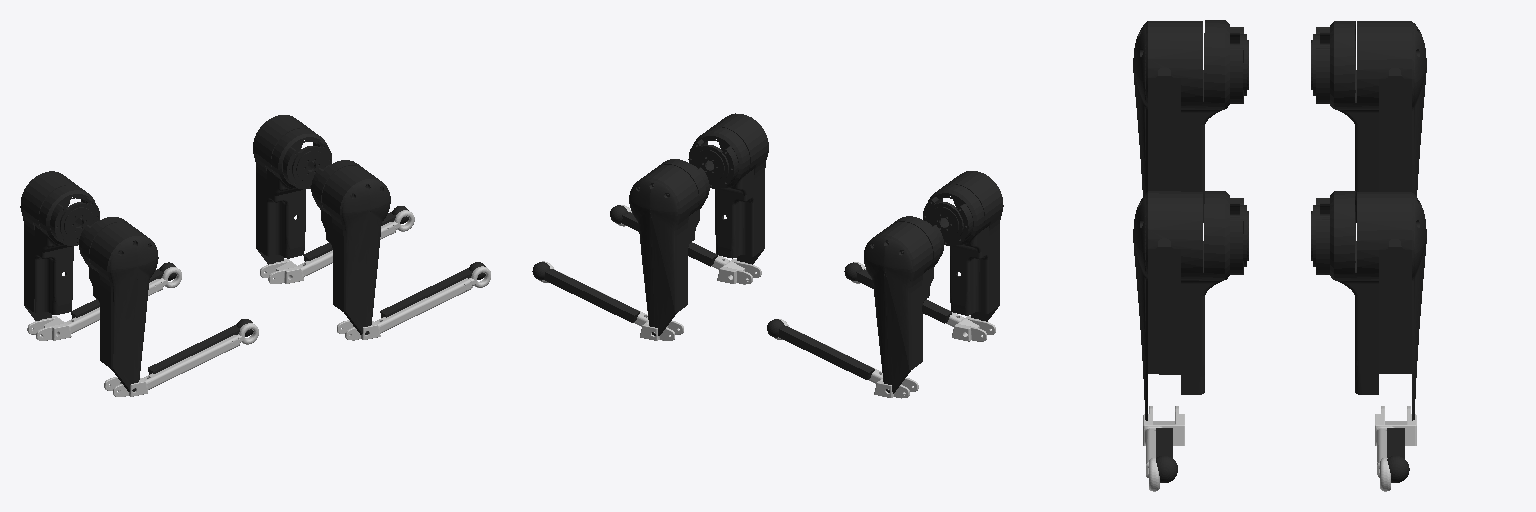
robot.urdf — robot:
<?xml version="1.0" ?>
<robot name="robot">
  <material name="black">
    <color rgba="0.0 0.0 0.0 1.0"/>
  </material>
  <material name="blue">
    <color rgba="0.0 0.0 0.8 1.0"/>
  </material>
  <material name="green">
    <color rgba="0.0 0.8 0.0 1.0"/>
  </material>
  <material name="grey">
    <color rgba="0.2 0.2 0.2 1.0"/>
  </material>
  <material name="silver">
    <color rgba="0.9137254901960784 0.9137254901960784 0.8470588235294118 1.0"/>
  </material>
  <material name="orange">
    <color rgba="1.0 0.4235294117647059 0.0392156862745098 1.0"/>
  </material>
  <material name="brown">
    <color rgba="0.8705882352941177 0.8117647058823529 0.7647058823529411 1.0"/>
  </material>
  <material name="red">
    <color rgba="0.8 0.0 0.0 1.0"/>
  </material>
  <material name="white">
    <color rgba="1.0 1.0 1.0 1.0"/>
  </material>
  <!-- <link name="base">
    <visual>
      <origin rpy="0 0 0" xyz="0 0 0"/>
      <geometry>
        <box size="0.001 0.001 0.001"/>
      </geometry>
    </visual>
  </link>
  <joint name="floating_base" type="fixed">
    <origin rpy="0 0 0" xyz="0 0 0"/>
    <parent link="base"/>
    <child link="trunk"/>
  </joint> -->
  <link name="trunk">
    <visual>
      <origin rpy="0 0 0" xyz="0 0 0"/>
      <geometry>
        <mesh filename="../meshes/trunk.dae" scale="1 1 1"/>
      </geometry>
      <material name="grey"/>
    </visual>
    <collision>
      <origin rpy="0 0 0" xyz="0 0 0"/>
      <geometry>
        <box size="0.647 0.15 0.112"/>
      </geometry>
    </collision>
    <inertial>
      <origin rpy="0 0 0" xyz="0.008465 0.004045 -0.000763"/>
      <mass value="11.041"/>
      <inertia ixx="0.050874" ixy="-0.000451628" ixz="0.000487603" iyy="0.64036" iyz="4.8356e-05" izz="0.65655"/>
    </inertial>
  </link>
  <joint name="FR_hip_joint" type="revolute">
    <origin rpy="0 0 0" xyz="0.2407 -0.051 0"/>
    <parent link="trunk"/>
    <child link="FR_hip"/>
    <axis xyz="1 0 0"/>
    <dynamics damping="0.01" friction="0.2"/>
    <limit effort="35.278" lower="-1.0" upper="1.0" velocity="20"/>
  </joint>
  <link name="FR_hip">
    <visual>
      <origin rpy="3.141592653589793 0 0" xyz="0 0 0"/>
      <geometry>
        <mesh filename="../meshes/hip.dae" scale="1 1 1"/>
      </geometry>
      <material name="grey"/>
    </visual>
    <collision>
      <origin rpy="1.5707963267948966 0 0" xyz="0 0 0"/>
      <geometry>
        <cylinder length="0.0418" radius="0.046"/>
      </geometry>
    </collision>
    <inertial>
      <origin rpy="0 0 0" xyz="-0.022191 -0.015144 -1.5e-05"/>
      <mass value="1.993"/>
      <inertia ixx="0.002903894" ixy="7.185e-05" ixz="-1.262e-06" iyy="0.004907517" iyz="1.75e-06" izz="0.005586944"/>
    </inertial>
  </link>
  <joint name="FR_thigh_joint" type="revolute">
    <origin rpy="0 0 0" xyz="0 -0.0868 0"/>
    <parent link="FR_hip"/>
    <child link="FR_thigh"/>
    <axis xyz="0 1 0"/>
    <dynamics damping="0.01" friction="0.2"/>
    <limit effort="35.278" lower="-0.6" upper="2.9" velocity="20"/>
  </joint>
  <link name="FR_thigh">
    <visual>
      <origin rpy="0 0 0" xyz="0 0 0"/>
      <geometry>
        <mesh filename="../meshes/thigh.dae" scale="1 1 1"/>
      </geometry>
      <material name="grey"/>
    </visual>
    <collision>
      <origin rpy="0 1.6707963267948966 0" xyz="-0.015 0 -0.125"/>
      <geometry>
        <box size="0.25 0.0374 0.043"/>
      </geometry>
    </collision>
    <collision>
      <origin rpy="1.5707963267948966 0 0" xyz="0 -0.0 0"/>
      <geometry>
        <cylinder length="0.03" radius="0.044"/>
      </geometry>
    </collision>
    <inertial>
      <origin rpy="0 0 0" xyz="-0.005607 0.003877 -0.048199"/>
      <mass value="0.639"/>
      <inertia ixx="0.005666803" ixy="-3.597e-06" ixz="0.000491446" iyy="0.005847229" iyz="-1.0086e-05" izz="0.000369811"/>
    </inertial>
  </link>
  <joint name="FR_calf_joint" type="revolute">
    <origin rpy="0 0 0" xyz="0 0 -0.25"/>
    <parent link="FR_thigh"/>
    <child link="FR_calf"/>
    <axis xyz="0 1 0"/>
    <dynamics damping="0.01" friction="0.2"/>
    <limit effort="44.4" lower="-2.8" upper="-0.8" velocity="15.89"/>
  </joint>
  <link name="FR_calf">
    <visual>
      <origin rpy="0 0 0" xyz="0 0 0"/>
      <geometry>
        <mesh filename="../meshes/calf.dae" scale="1 1 1"/>
      </geometry>
    </visual>
    <collision>
      <origin rpy="0 1.5707963267948966 0" xyz="0.008 0 -0.125"/>
      <geometry>
        <box size="0.25 0.04 0.03"/>
      </geometry>
    </collision>
    <collision>
      <origin rpy="0 0 0" xyz="0 0 -0.25"/>
      <geometry>
        <sphere radius="0.02"/>
      </geometry>
    </collision>
    <inertial>
      <origin rpy="0 0 0" xyz="0.002781 6.3e-05 -0.142518"/>
      <mass value="0.207"/>
      <inertia ixx="0.006341369" ixy="-3e-09" ixz="-8.7951e-05" iyy="0.006355157" iyz="-1.336e-06" izz="3.9188e-05"/>
    </inertial>
  </link>
  <joint name="FR_foot_fixed" type="fixed" dont_collapse="true">
    <origin rpy="0 0 0" xyz="0 0 -0.25"/>
    <parent link="FR_calf"/>
    <child link="FR_foot"/>
  </joint>
  <link name="FR_foot">
    <visual>
      <origin rpy="0 1.57079632679 0" xyz="0 0 0.1"/>
      <geometry>
        <box size="0.2 0.0208 0.016"/>
      </geometry>
      <material name="grey"/>
    </visual>
    <visual>
      <origin rpy="0 0 0" xyz="0 0 0"/>
      <geometry>
        <sphere radius="0.0165"/>
      </geometry>
      <material name="grey"/>
    </visual>
    <collision>
      <origin rpy="0 0 0" xyz="0 0 0"/>
      <geometry>
        <sphere radius="0.0165"/>
      </geometry>
    </collision>
    <inertial>
      <mass value="0.06"/>
      <inertia ixx="1.6854e-05" ixy="0.0" ixz="0.0" iyy="1.6854e-05" iyz="0.0" izz="1.6854e-05"/>
    </inertial>
  </link>
  <joint name="FL_hip_joint" type="revolute">
    <origin rpy="0 0 0" xyz="0.2407 0.051 0"/>
    <parent link="trunk"/>
    <child link="FL_hip"/>
    <axis xyz="1 0 0"/>
    <dynamics damping="0.01" friction="0.2"/>
    <limit effort="35.278" lower="-1.0" upper="1.0" velocity="20"/>
  </joint>
  <link name="FL_hip">
    <visual>
      <origin rpy="0 0 0" xyz="0 0 0"/>
      <geometry>
        <mesh filename="../meshes/hip.dae" scale="1 1 1"/>
      </geometry>
      <material name="grey"/>
    </visual>
    <collision>
      <origin rpy="1.5707963267948966 0 0" xyz="0 0 0"/>
      <geometry>
        <cylinder length="0.0418" radius="0.046"/>
      </geometry>
    </collision>
    <inertial>
      <origin rpy="0 0 0" xyz="-0.022191 0.015144 -1.5e-05"/>
      <mass value="1.993"/>
      <inertia ixx="0.002903894" ixy="-7.185e-05" ixz="-1.262e-06" iyy="0.004907517" iyz="-1.75e-06" izz="0.005586944"/>
    </inertial>
  </link>
  <joint name="FL_thigh_joint" type="revolute">
    <origin rpy="0 0 0" xyz="0 0.0868 0"/>
    <parent link="FL_hip"/>
    <child link="FL_thigh"/>
    <axis xyz="0 1 0"/>
    <dynamics damping="0.01" friction="0.2"/>
    <limit effort="35.278" lower="-0.6" upper="2.9" velocity="20"/>
  </joint>
  <link name="FL_thigh">
    <visual>
      <origin rpy="0 0 0" xyz="0 0 0"/>
      <geometry>
        <mesh filename="../meshes/thigh_mirror.dae" scale="1 1 1"/>
      </geometry>
      <material name="grey"/>
    </visual>
    <collision>
      <origin rpy="0 1.6707963267948966 0" xyz="-0.015 0 -0.125"/>
      <geometry>
        <box size="0.25 0.0374 0.043"/>
      </geometry>
    </collision>
    <collision>
      <origin rpy="1.5707963267948966 0 0" xyz="0 0.0 0"/>
      <geometry>
        <cylinder length="0.03" radius="0.044"/>
      </geometry>
    </collision>
    <inertial>
      <origin rpy="0 0 0" xyz="-0.005607 -0.003877 -0.048199"/>
      <mass value="0.639"/>
      <inertia ixx="0.005666803" ixy="3.597e-06" ixz="0.000491446" iyy="0.005847229" iyz="1.0086e-05" izz="0.000369811"/>
    </inertial>
  </link>
  <joint name="FL_calf_joint" type="revolute">
    <origin rpy="0 0 0" xyz="0 0 -0.25"/>
    <parent link="FL_thigh"/>
    <child link="FL_calf"/>
    <axis xyz="0 1 0"/>
    <dynamics damping="0.01" friction="0.2"/>
    <limit effort="44.4" lower="-2.8" upper="-0.8" velocity="15.89"/>
  </joint>
  <link name="FL_calf">
    <visual>
      <origin rpy="0 0 0" xyz="0 0 0"/>
      <geometry>
        <mesh filename="../meshes/calf.dae" scale="1 1 1"/>
      </geometry>
    </visual>
    <collision>
      <origin rpy="0 1.5707963267948966 0" xyz="0.008 0 -0.125"/>
      <geometry>
        <box size="0.25 0.04 0.03"/>
      </geometry>
    </collision>
    <collision>
      <origin rpy="0 0 0" xyz="0 0 -0.25"/>
      <geometry>
        <sphere radius="0.02"/>
      </geometry>
    </collision>
    <inertial>
      <origin rpy="0 0 0" xyz="0.002781 6.3e-05 -0.142518"/>
      <mass value="0.207"/>
      <inertia ixx="0.006341369" ixy="-3e-09" ixz="-8.7951e-05" iyy="0.006355157" iyz="-1.336e-06" izz="3.9188e-05"/>
    </inertial>
  </link>
  <joint name="FL_foot_fixed" type="fixed" dont_collapse="true">
    <origin rpy="0 0 0" xyz="0 0 -0.25"/>
    <parent link="FL_calf"/>
    <child link="FL_foot"/>
  </joint>
  <link name="FL_foot">
    <visual>
      <origin rpy="0 1.57079632679 0" xyz="0 0 0.1"/>
      <geometry>
        <box size="0.2 0.0208 0.016"/>
      </geometry>
      <material name="grey"/>
    </visual>
    <visual>
      <origin rpy="0 0 0" xyz="0 0 0"/>
      <geometry>
        <sphere radius="0.0165"/>
      </geometry>
      <material name="grey"/>
    </visual>
    <collision>
      <origin rpy="0 0 0" xyz="0 0 0"/>
      <geometry>
        <sphere radius="0.0165"/>
      </geometry>
    </collision>
    <inertial>
      <mass value="0.06"/>
      <inertia ixx="1.6854e-05" ixy="0.0" ixz="0.0" iyy="1.6854e-05" iyz="0.0" izz="1.6854e-05"/>
    </inertial>
  </link>
  <joint name="RR_hip_joint" type="revolute">
    <origin rpy="0 0 0" xyz="-0.2407 -0.051 0"/>
    <parent link="trunk"/>
    <child link="RR_hip"/>
    <axis xyz="1 0 0"/>
    <dynamics damping="0.01" friction="0.2"/>
    <limit effort="35.278" lower="-1.0" upper="1.0" velocity="20"/>
  </joint>
  <link name="RR_hip">
    <visual>
      <origin rpy="3.141592653589793 3.141592653589793 0" xyz="0 0 0"/>
      <geometry>
        <mesh filename="../meshes/hip.dae" scale="1 1 1"/>
      </geometry>
      <material name="grey"/>
    </visual>
    <collision>
      <origin rpy="1.5707963267948966 0 0" xyz="0 0 0"/>
      <geometry>
        <cylinder length="0.0418" radius="0.046"/>
      </geometry>
    </collision>
    <inertial>
      <origin rpy="0 0 0" xyz="0.022191 -0.015144 -1.5e-05"/>
      <mass value="1.993"/>
      <inertia ixx="0.002903894" ixy="-7.185e-05" ixz="1.262e-06" iyy="0.004907517" iyz="1.75e-06" izz="0.005586944"/>
    </inertial>
  </link>
  <joint name="RR_thigh_joint" type="revolute">
    <origin rpy="0 0 0" xyz="0 -0.0868 0"/>
    <parent link="RR_hip"/>
    <child link="RR_thigh"/>
    <axis xyz="0 1 0"/>
    <dynamics damping="0.01" friction="0.2"/>
    <limit effort="35.278" lower="-0.6" upper="2.9" velocity="20"/>
  </joint>
  <link name="RR_thigh">
    <visual>
      <origin rpy="0 0 0" xyz="0 0 0"/>
      <geometry>
        <mesh filename="../meshes/thigh.dae" scale="1 1 1"/>
      </geometry>
      <material name="grey"/>
    </visual>
    <collision>
      <origin rpy="0 1.6707963267948966 0" xyz="-0.015 0 -0.125"/>
      <geometry>
        <box size="0.25 0.0374 0.043"/>
      </geometry>
    </collision>
    <collision>
      <origin rpy="1.5707963267948966 0 0" xyz="0 -0.0 0"/>
      <geometry>
        <cylinder length="0.03" radius="0.044"/>
      </geometry>
    </collision>
    <inertial>
      <origin rpy="0 0 0" xyz="-0.005607 0.003877 -0.048199"/>
      <mass value="0.639"/>
      <inertia ixx="0.005666803" ixy="-3.597e-06" ixz="0.000491446" iyy="0.005847229" iyz="-1.0086e-05" izz="0.000369811"/>
    </inertial>
  </link>
  <joint name="RR_calf_joint" type="revolute">
    <origin rpy="0 0 0" xyz="0 0 -0.25"/>
    <parent link="RR_thigh"/>
    <child link="RR_calf"/>
    <axis xyz="0 1 0"/>
    <dynamics damping="0.01" friction="0.2"/>
    <limit effort="44.4" lower="-2.8" upper="-0.8" velocity="15.89"/>
  </joint>
  <link name="RR_calf">
    <visual>
      <origin rpy="0 0 0" xyz="0 0 0"/>
      <geometry>
        <mesh filename="../meshes/calf.dae" scale="1 1 1"/>
      </geometry>
    </visual>
    <collision>
      <origin rpy="0 1.5707963267948966 0" xyz="0.008 0 -0.125"/>
      <geometry>
        <box size="0.25 0.04 0.03"/>
      </geometry>
    </collision>
    <collision>
      <origin rpy="0 0 0" xyz="0 0 -0.25"/>
      <geometry>
        <sphere radius="0.02"/>
      </geometry>
    </collision>
    <inertial>
      <origin rpy="0 0 0" xyz="0.002781 6.3e-05 -0.142518"/>
      <mass value="0.207"/>
      <inertia ixx="0.006341369" ixy="-3e-09" ixz="-8.7951e-05" iyy="0.006355157" iyz="-1.336e-06" izz="3.9188e-05"/>
    </inertial>
  </link>
  <joint name="RR_foot_fixed" type="fixed" dont_collapse="true">
    <origin rpy="0 0 0" xyz="0 0 -0.25"/>
    <parent link="RR_calf"/>
    <child link="RR_foot"/>
  </joint>
  <link name="RR_foot">
    <visual>
      <origin rpy="0 1.57079632679 0" xyz="0 0 0.1"/>
      <geometry>
        <box size="0.2 0.0208 0.016"/>
      </geometry>
      <material name="grey"/>
    </visual>
    <visual>
      <origin rpy="0 0 0" xyz="0 0 0"/>
      <geometry>
        <sphere radius="0.0165"/>
      </geometry>
      <material name="grey"/>
    </visual>
    <collision>
      <origin rpy="0 0 0" xyz="0 0 0"/>
      <geometry>
        <sphere radius="0.0165"/>
      </geometry>
    </collision>
    <inertial>
      <mass value="0.06"/>
      <inertia ixx="1.6854e-05" ixy="0.0" ixz="0.0" iyy="1.6854e-05" iyz="0.0" izz="1.6854e-05"/>
    </inertial>
  </link>
  <joint name="RL_hip_joint" type="revolute">
    <origin rpy="0 0 0" xyz="-0.2407 0.051 0"/>
    <parent link="trunk"/>
    <child link="RL_hip"/>
    <axis xyz="1 0 0"/>
    <dynamics damping="0.01" friction="0.2"/>
    <limit effort="35.278" lower="-1.0" upper="1.0" velocity="20"/>
  </joint>
  <link name="RL_hip">
    <visual>
      <origin rpy="0 3.141592653589793 0" xyz="0 0 0"/>
      <geometry>
        <mesh filename="../meshes/hip.dae" scale="1 1 1"/>
      </geometry>
      <material name="grey"/>
    </visual>
    <collision>
      <origin rpy="1.5707963267948966 0 0" xyz="0 0 0"/>
      <geometry>
        <cylinder length="0.0418" radius="0.046"/>
      </geometry>
    </collision>
    <inertial>
      <origin rpy="0 0 0" xyz="0.022191 0.015144 -1.5e-05"/>
      <mass value="1.993"/>
      <inertia ixx="0.002903894" ixy="7.185e-05" ixz="1.262e-06" iyy="0.004907517" iyz="-1.75e-06" izz="0.005586944"/>
    </inertial>
  </link>
  <joint name="RL_thigh_joint" type="revolute">
    <origin rpy="0 0 0" xyz="0 0.0868 0"/>
    <parent link="RL_hip"/>
    <child link="RL_thigh"/>
    <axis xyz="0 1 0"/>
    <dynamics damping="0.01" friction="0.2"/>
    <limit effort="35.278" lower="-0.6" upper="2.9" velocity="20"/>
  </joint>
  <link name="RL_thigh">
    <visual>
      <origin rpy="0 0 0" xyz="0 0 0"/>
      <geometry>
        <mesh filename="../meshes/thigh_mirror.dae" scale="1 1 1"/>
      </geometry>
      <material name="grey"/>
    </visual>
    <collision>
      <origin rpy="0 1.6707963267948966 0" xyz="-0.015 0 -0.125"/>
      <geometry>
        <box size="0.25 0.0374 0.043"/>
      </geometry>
    </collision>
    <collision>
      <origin rpy="1.5707963267948966 0 0" xyz="0 0.0 0"/>
      <geometry>
        <cylinder length="0.03" radius="0.044"/>
      </geometry>
    </collision>
    <inertial>
      <origin rpy="0 0 0" xyz="-0.005607 -0.003877 -0.048199"/>
      <mass value="0.639"/>
      <inertia ixx="0.005666803" ixy="3.597e-06" ixz="0.000491446" iyy="0.005847229" iyz="1.0086e-05" izz="0.000369811"/>
    </inertial>
  </link>
  <joint name="RL_calf_joint" type="revolute">
    <origin rpy="0 0 0" xyz="0 0 -0.25"/>
    <parent link="RL_thigh"/>
    <child link="RL_calf"/>
    <axis xyz="0 1 0"/>
    <dynamics damping="0.01" friction="0.2"/>
    <limit effort="44.4" lower="-2.8" upper="-0.8" velocity="15.89"/>
  </joint>
  <link name="RL_calf">
    <visual>
      <origin rpy="0 0 0" xyz="0 0 0"/>
      <geometry>
        <mesh filename="../meshes/calf.dae" scale="1 1 1"/>
      </geometry>
    </visual>
    <collision>
      <origin rpy="0 1.5707963267948966 0" xyz="0.008 0 -0.125"/>
      <geometry>
        <box size="0.25 0.04 0.03"/>
      </geometry>
    </collision>
    <collision>
      <origin rpy="0 0 0" xyz="0 0 -0.25"/>
      <geometry>
        <sphere radius="0.02"/>
      </geometry>
    </collision>
    <inertial>
      <origin rpy="0 0 0" xyz="0.002781 6.3e-05 -0.142518"/>
      <mass value="0.207"/>
      <inertia ixx="0.006341369" ixy="-3e-09" ixz="-8.7951e-05" iyy="0.006355157" iyz="-1.336e-06" izz="3.9188e-05"/>
    </inertial>
  </link>
  <joint name="RL_foot_fixed" type="fixed" dont_collapse="true">
    <origin rpy="0 0 0" xyz="0 0 -0.25"/>
    <parent link="RL_calf"/>
    <child link="RL_foot"/>
  </joint>
  <link name="RL_foot">
    <visual>
      <origin rpy="0 1.57079632679 0" xyz="0 0 0.1"/>
      <geometry>
        <box size="0.2 0.0208 0.016"/>
      </geometry>
      <material name="grey"/>
    </visual>
    <visual>
      <origin rpy="0 0 0" xyz="0 0 0"/>
      <geometry>
        <sphere radius="0.0165"/>
      </geometry>
      <material name="grey"/>
    </visual>
    <collision>
      <origin rpy="0 0 0" xyz="0 0 0"/>
      <geometry>
        <sphere radius="0.0165"/>
      </geometry>
    </collision>
    <inertial>
      <mass value="0.06"/>
      <inertia ixx="1.6854e-05" ixy="0.0" ixz="0.0" iyy="1.6854e-05" iyz="0.0" izz="1.6854e-05"/>
    </inertial>
  </link>
</robot>

--- Render facts (derived) ---
3 views of the same robot in one strip: view 1: azimuth 30°, elevation 25°; view 2: azimuth 150°, elevation 25°; view 3: azimuth 270°, elevation 25° (orthographic).
Model robot with 17 links and 16 joints (12 revolute, 4 fixed), rooted at trunk, posed joints at zero except 4 at the middle of their limits (FR_calf_joint = -1.8, FL_calf_joint = -1.8, RR_calf_joint = -1.8, RL_calf_joint = -1.8).
Visible links, largest first — view 1: RR_thigh, FR_thigh, FL_thigh, RL_thigh, RR_calf, FR_calf, FL_calf, RL_calf, FR_foot, RR_foot; view 2: RL_thigh, FL_thigh, RR_thigh, FR_thigh, RL_foot, FL_foot, FR_calf, RR_calf, FR_foot, RR_foot, FL_calf, RL_calf; view 3: FR_thigh, FL_thigh, RL_thigh, RR_thigh, FR_calf, FL_calf, FL_foot, FR_foot.
Link boxes in pixels (<box>): RR_thigh: <box>79,217,158,391</box>; FR_thigh: <box>311,160,390,334</box>; FL_thigh: <box>253,115,331,264</box>; RL_thigh: <box>20,171,99,320</box>; RR_calf: <box>104,323,258,396</box>; FR_calf: <box>337,266,490,340</box>; FL_calf: <box>260,210,414,283</box>; RL_calf: <box>27,267,181,340</box>; FR_foot: <box>380,262,485,317</box>; RR_foot: <box>148,319,253,374</box>; RL_thigh: <box>864,216,943,393</box>; FL_thigh: <box>629,159,709,335</box>; RR_thigh: <box>923,171,1003,321</box>; FR_thigh: <box>688,113,768,264</box>; RL_foot: <box>767,319,874,379</box>; FL_foot: <box>532,262,639,322</box>; FR_calf: <box>616,205,761,284</box>; RR_calf: <box>852,262,995,341</box>; FR_foot: <box>610,205,717,266</box>; RR_foot: <box>844,262,951,323</box>; FL_calf: <box>539,261,683,340</box>; RL_calf: <box>775,319,918,398</box>; FR_thigh: <box>1133,191,1248,420</box>; FL_thigh: <box>1311,191,1426,420</box>; RL_thigh: <box>1311,21,1426,222</box>; RR_thigh: <box>1133,20,1248,222</box>; FR_calf: <box>1143,406,1184,491</box>; FL_calf: <box>1375,406,1416,491</box>; FL_foot: <box>1387,428,1409,482</box>; FR_foot: <box>1156,428,1177,482</box>.
Size in the robot's own frame: 0.7981 by 0.3496 by 0.3164 metres.
8 mesh visuals loaded from 5 distinct referenced files (3 Collada DAE); not drawn: 5 (reference not matched to a file when rendering).